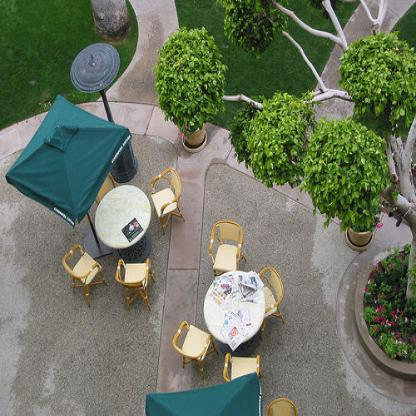chair: (171, 318, 220, 380), (62, 243, 108, 308), (150, 166, 184, 234), (208, 219, 247, 276), (115, 257, 155, 312), (257, 265, 285, 337), (221, 352, 262, 382), (94, 171, 116, 205), (267, 397, 297, 415)
diningtable: (202, 270, 266, 356), (94, 184, 152, 263)
pottedplant: (150, 26, 228, 153), (340, 200, 384, 250)
